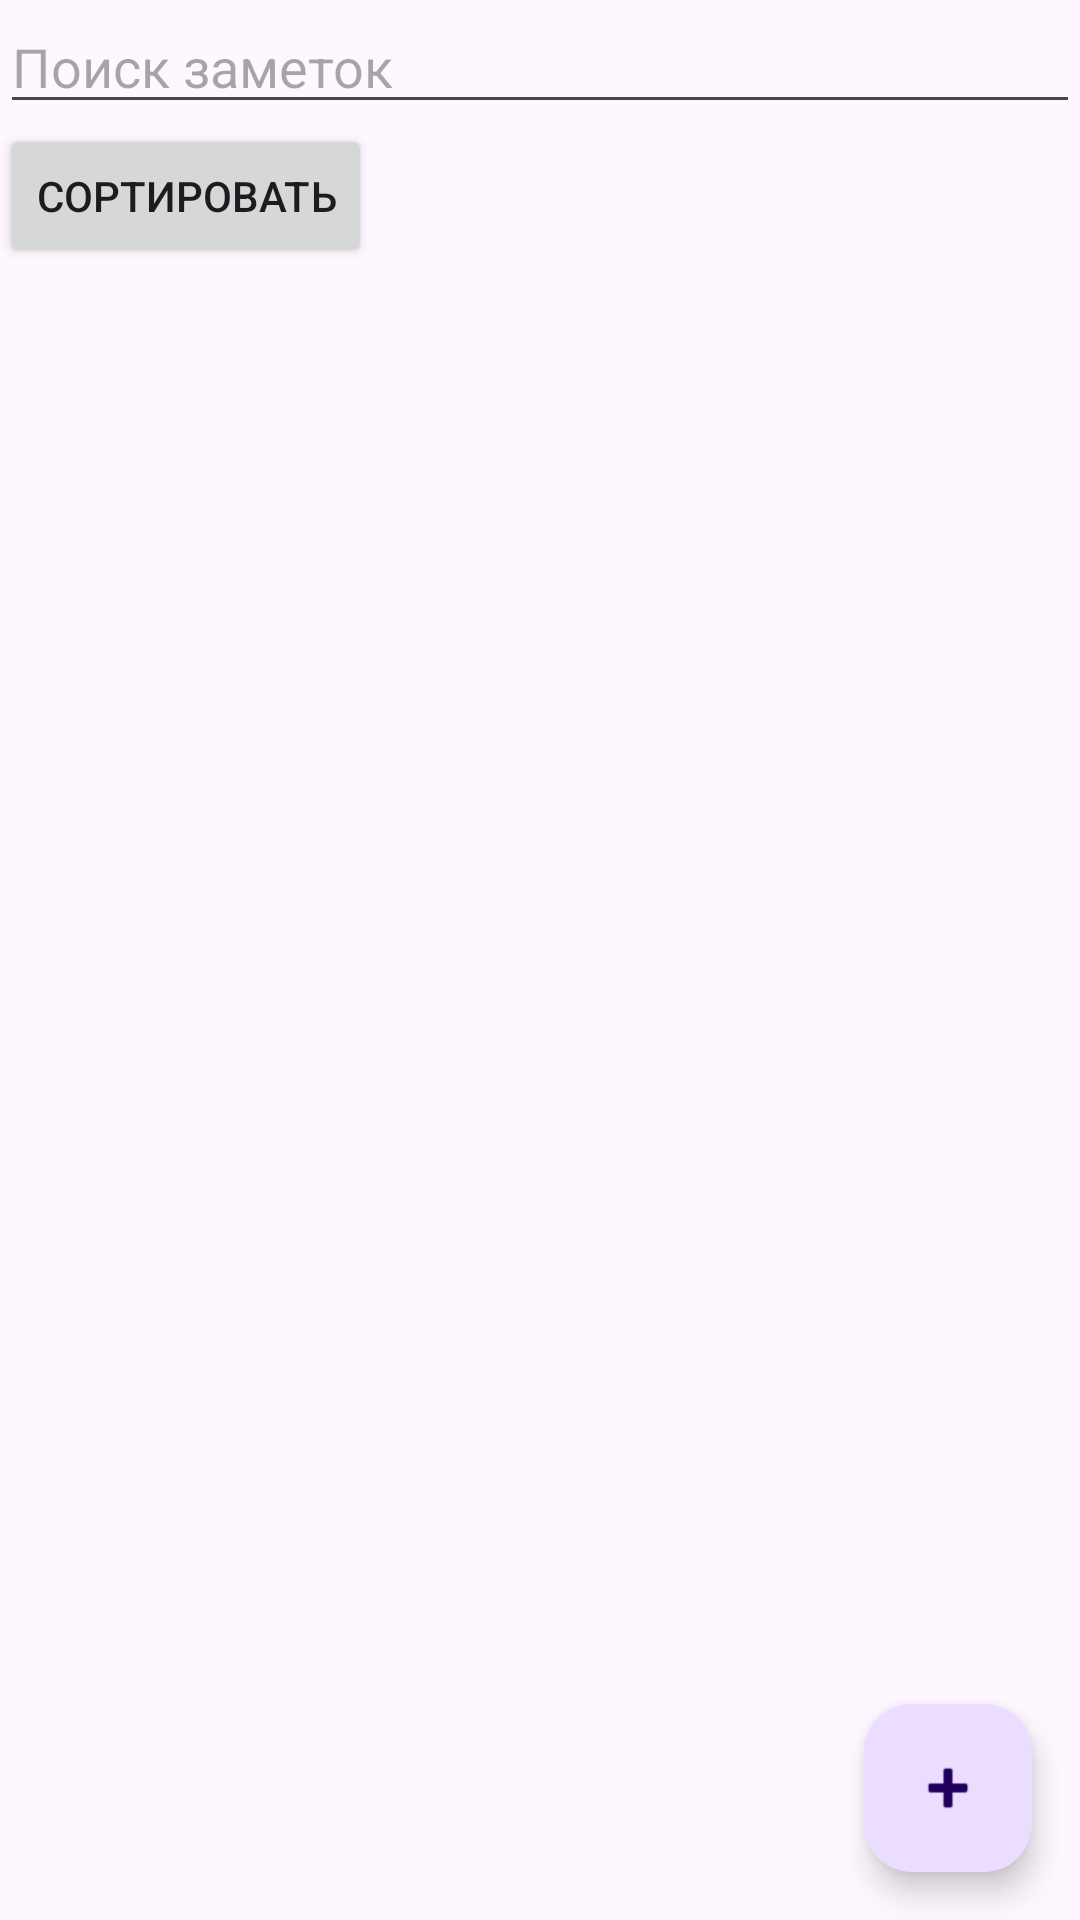

Icon bounding boxes for this 1080x1920 phone screenshot, format (x1, y1, x2, y2):
Добавить заметку: (864, 1704, 1032, 1872)
